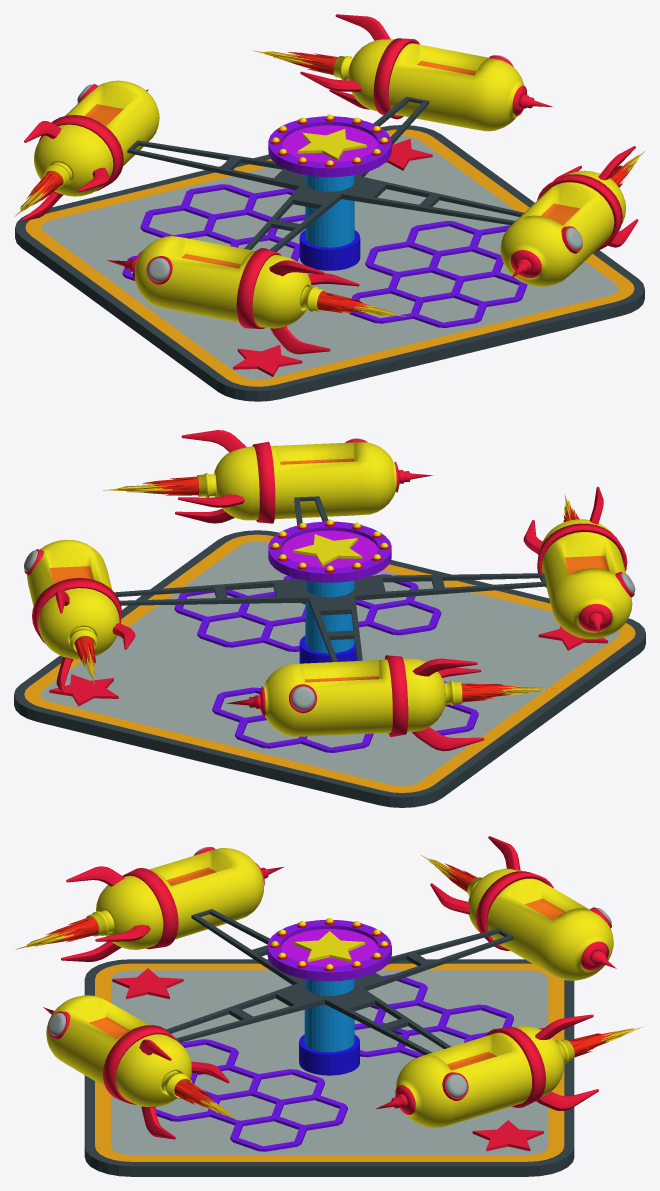
Rendered from Rocket1.2.fbx.
3 renders of one model, top to bottom at view 1: azimuth 30°, elevation 25°; view 2: azimuth 150°, elevation 25°; view 3: azimuth 270°, elevation 25°, orthographic.
Parts seen in each view (by area): view 1: Plane, Rocket.003; view 2: Plane, Rocket.003; view 3: Plane, Rocket.003.
Part boxes in pixels (<box>): Plane: <box>15,114,644,401</box>; Rocket.003: <box>14,14,644,354</box>; Plane: <box>14,519,645,807</box>; Rocket.003: <box>24,430,635,751</box>; Plane: <box>84,918,574,1176</box>; Rocket.003: <box>16,836,644,1139</box>.
Size of the model in its own units: 678 by 156 by 678.
2 materials, 2 textured.
